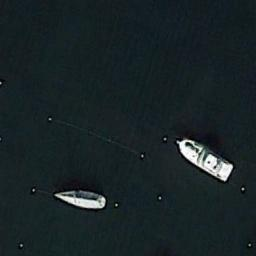boat: (174, 136, 233, 181), (52, 188, 106, 211)
